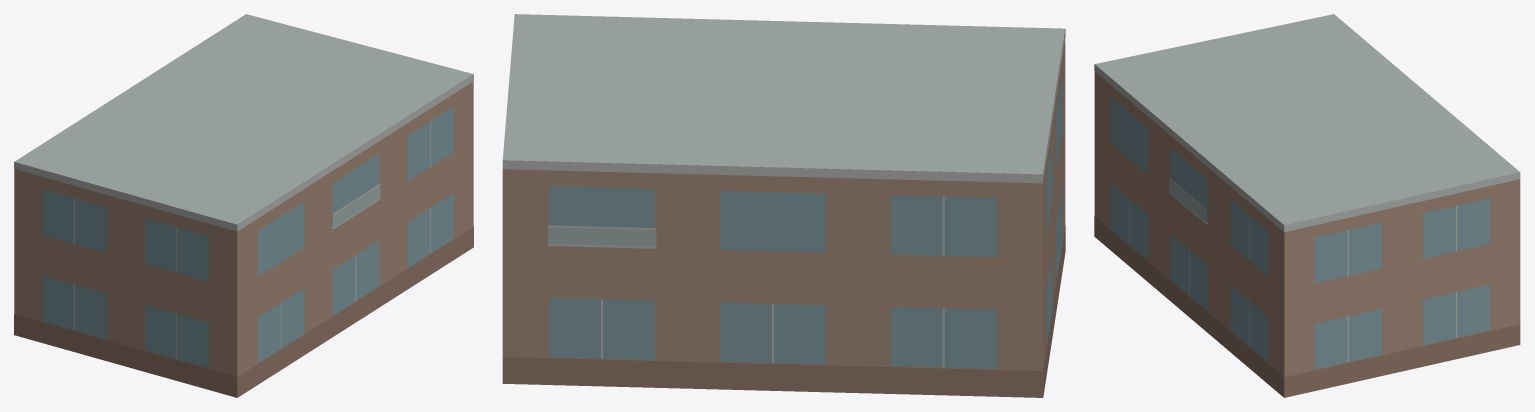
The model's file is survey-upis-32856449.glb.
3 renders of one model, left to right at view 1: azimuth 30°, elevation 25°; view 2: azimuth 150°, elevation 25°; view 3: azimuth 270°, elevation 25°, orthographic. The views are drawn at different scales.
Parts seen in each view (by area): view 1: survey-upis-32856449.tmp; view 2: survey-upis-32856449.tmp; view 3: survey-upis-32856449.tmp.
Part boxes in pixels (bbox=[...]): survey-upis-32856449.tmp: bbox=[14, 14, 473, 397]; survey-upis-32856449.tmp: bbox=[502, 14, 1065, 397]; survey-upis-32856449.tmp: bbox=[1094, 14, 1520, 397].
Size of the model in its own units: 16.03 by 6.1 by 13.65.
